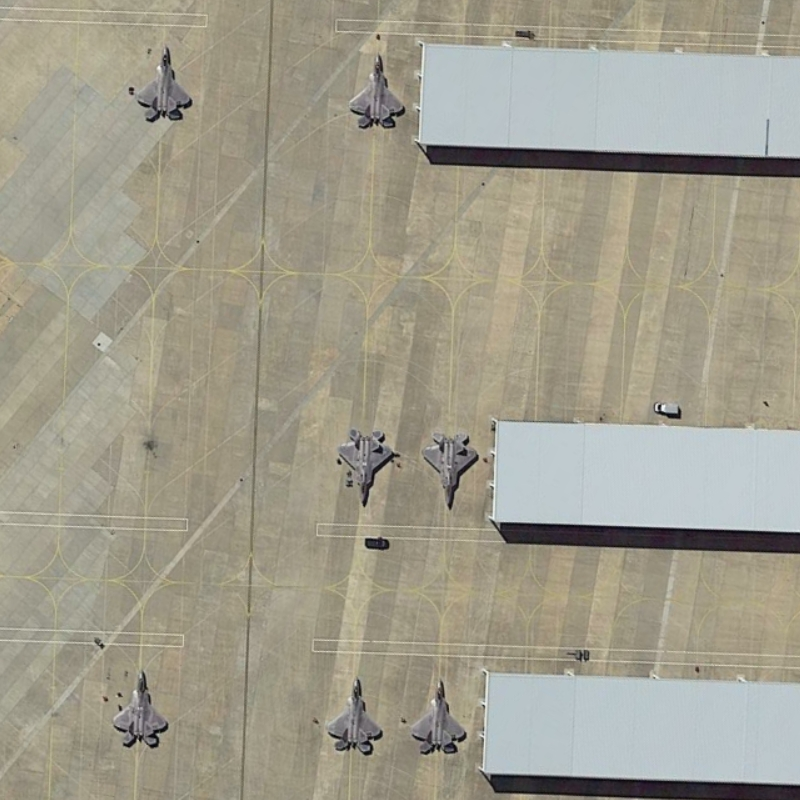A15: (418, 427, 483, 513), (320, 674, 386, 757), (334, 425, 398, 509), (110, 664, 172, 750), (346, 49, 409, 132), (407, 677, 470, 759), (134, 43, 195, 126)
